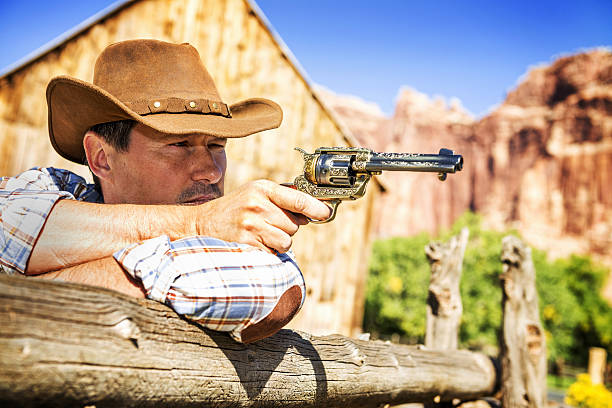gun: (279, 145, 464, 226)
